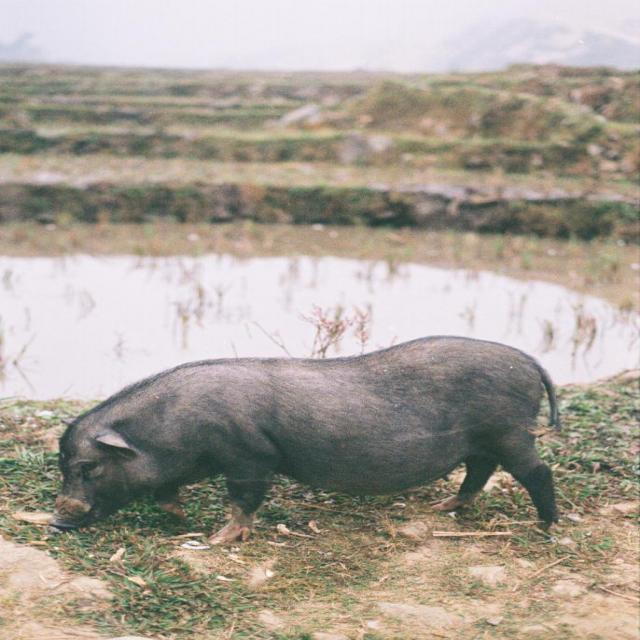Pig: (48, 333, 572, 550)
